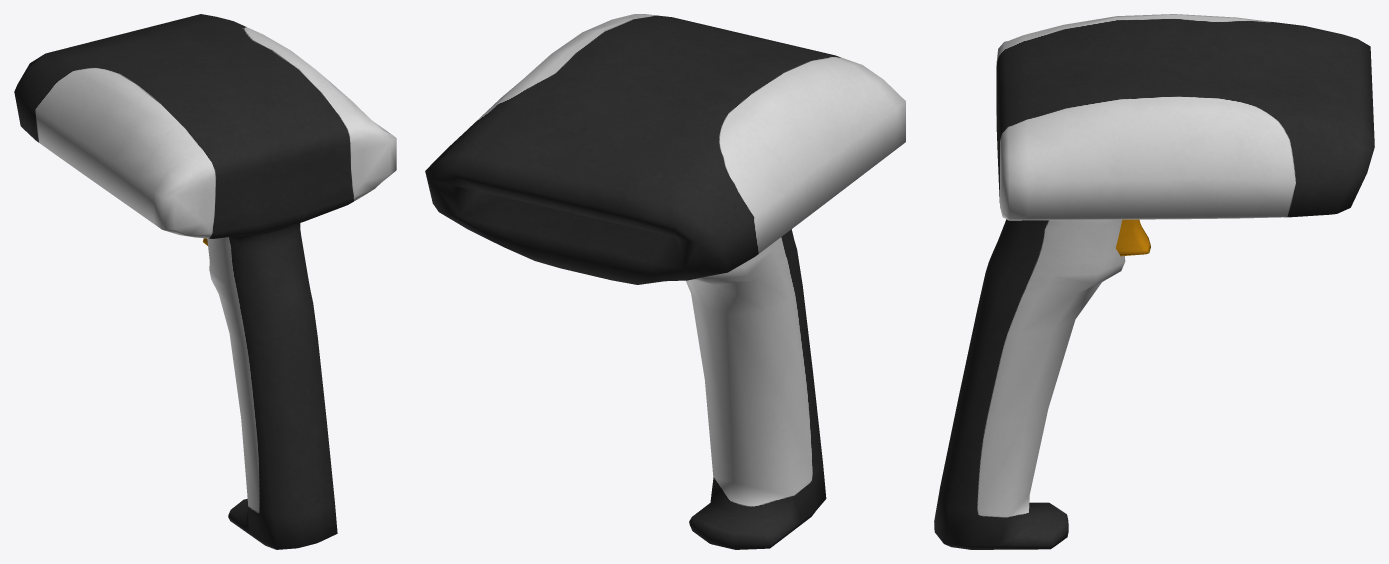
File: barcode_reader.glb
The picture shows the model from 3 angles, left to right: view 1: azimuth 30°, elevation 25°; view 2: azimuth 150°, elevation 25°; view 3: azimuth 270°, elevation 25°; orthographic projection. The views are drawn at different scales.
Visible parts, largest first — view 1: barCode_reader_low; view 2: barCode_reader_low; view 3: barCode_reader_low, barCode_reader_trigger_low.
Boxes of the visible parts, x1,y1,x2,y2 form: barCode_reader_low: [14, 14, 396, 549]; barCode_reader_low: [425, 14, 905, 549]; barCode_reader_low: [934, 14, 1374, 549]; barCode_reader_trigger_low: [1115, 219, 1150, 256].
Size of the model in its own units: 0.0973 by 0.1578 by 0.1325.
Materials: 1 (1 with a texture image).
